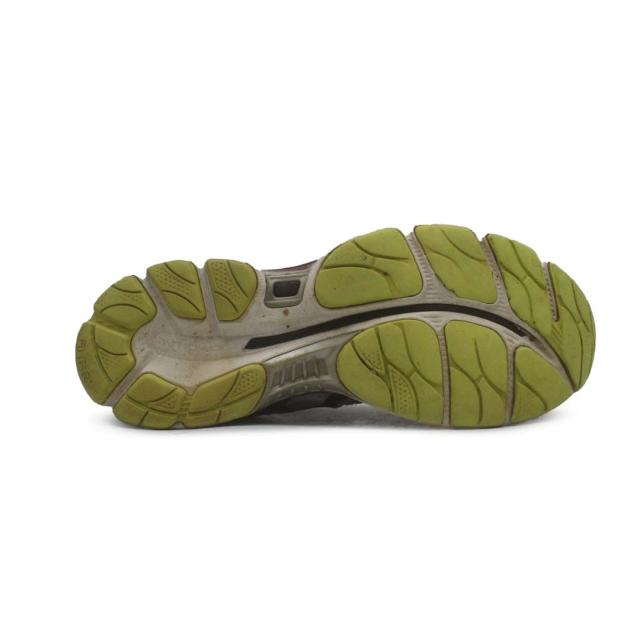outersole: (75, 222, 596, 430)
